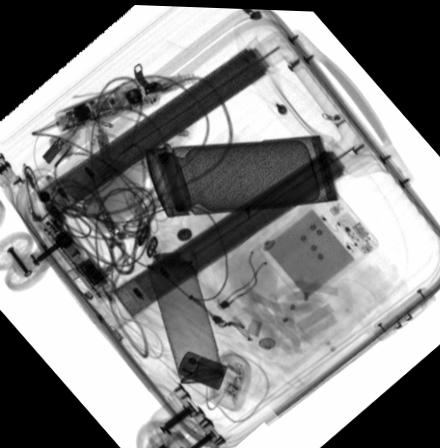Lighter: (178, 348, 229, 389)
Powerbank: (256, 183, 379, 304)
Sprayer: (137, 223, 225, 382)
